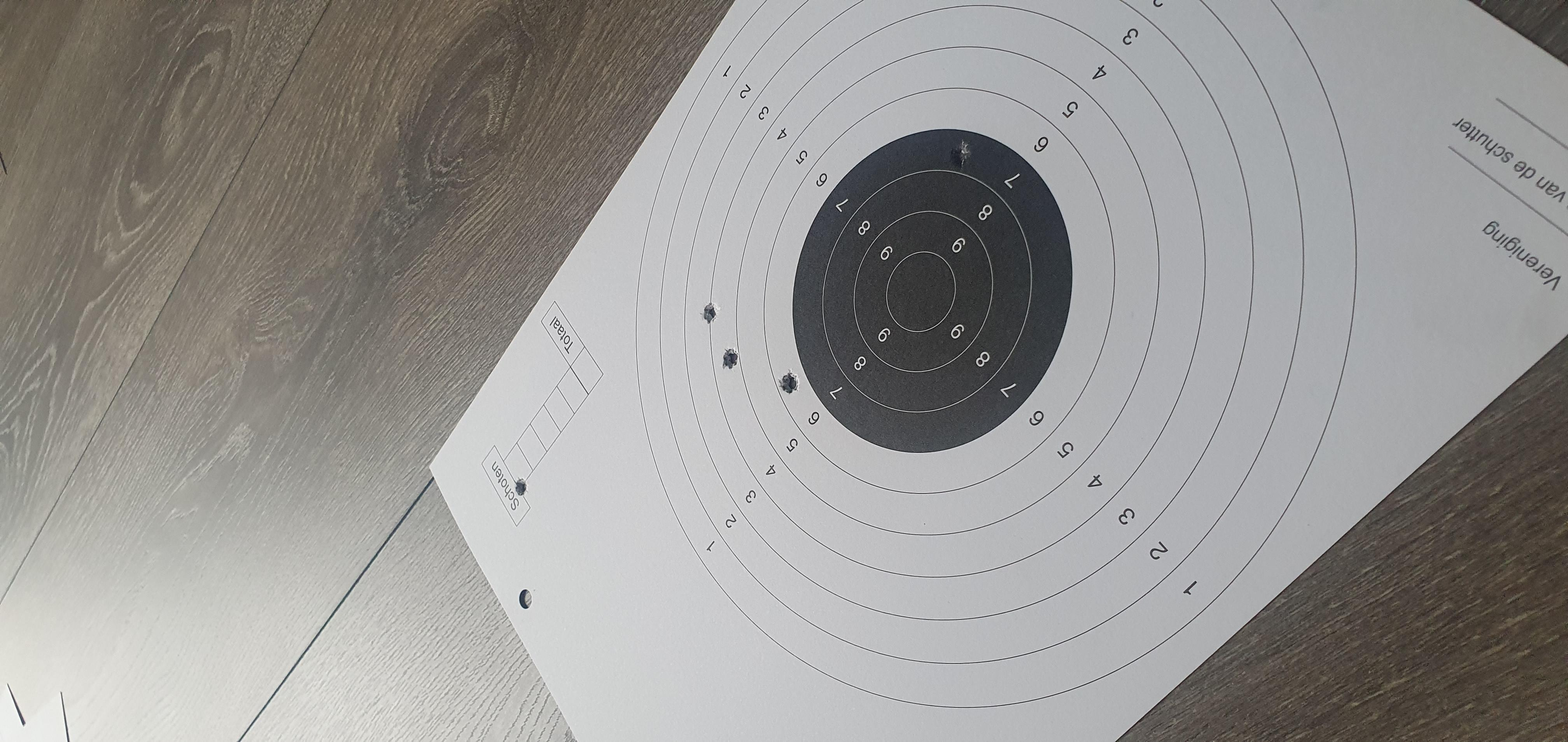hole: (1209, 447, 1274, 461), (731, 368, 788, 379), (510, 240, 565, 251), (880, 331, 932, 341), (780, 341, 834, 350)
